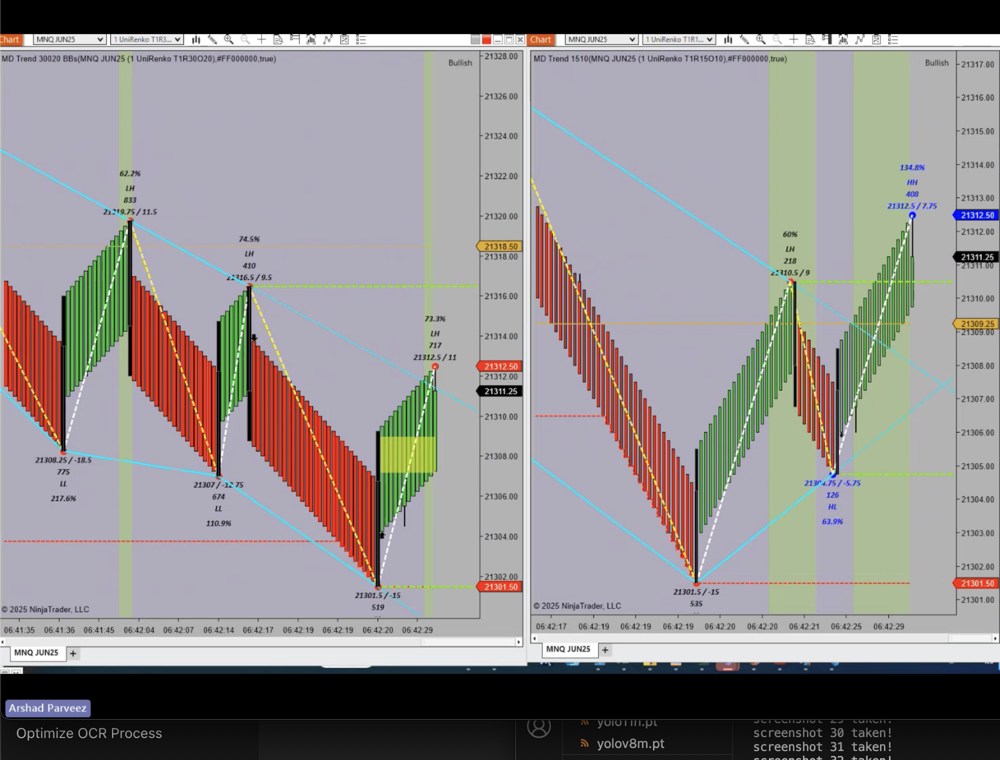HH: (904, 173, 922, 187)
HL: (823, 498, 842, 515)
LH: (782, 240, 802, 258), (239, 246, 261, 262), (121, 182, 142, 196), (426, 325, 444, 340)
LL: (51, 475, 74, 491), (210, 498, 228, 518)
